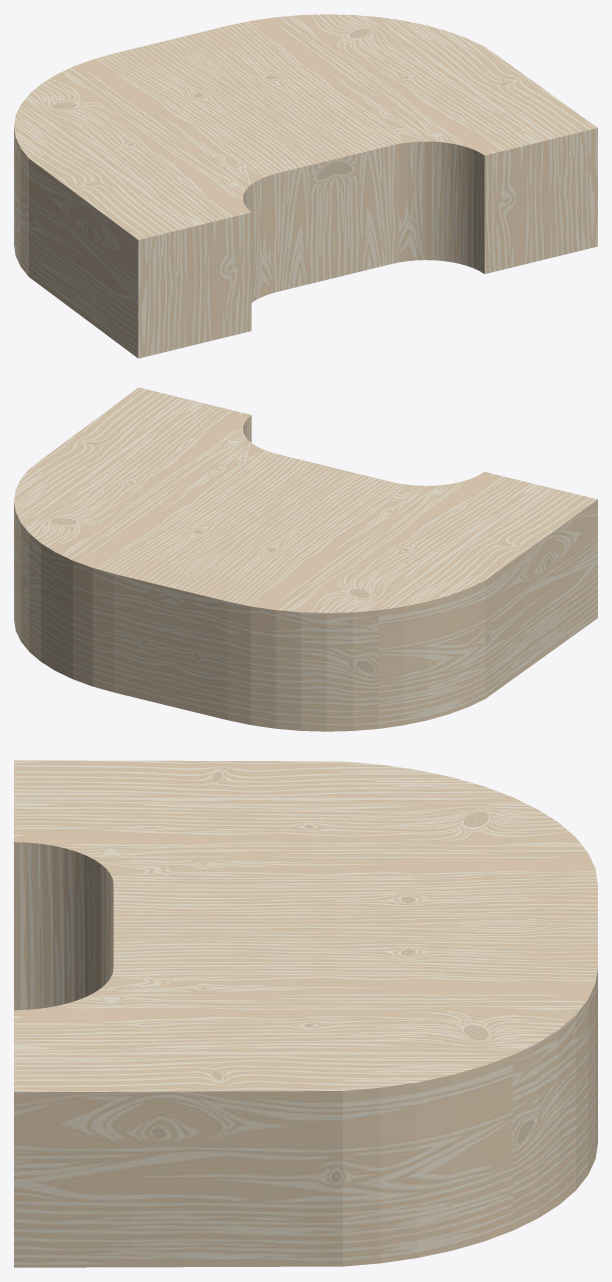
File: Stage.fbx
3 views of the same model, one above another, from view 1: azimuth 30°, elevation 25°; view 2: azimuth 150°, elevation 25°; view 3: azimuth 270°, elevation 25° (orthographic). The views are drawn at different scales.
Visible parts, largest first — view 1: Cube; view 2: Cube; view 3: Cube.
Part boxes in pixels (bbox=[...]): Cube: bbox=[14, 14, 597, 358]; Cube: bbox=[14, 387, 597, 731]; Cube: bbox=[14, 760, 597, 1267].
Bounding box in the file's own units: 811 × 200 × 603.
